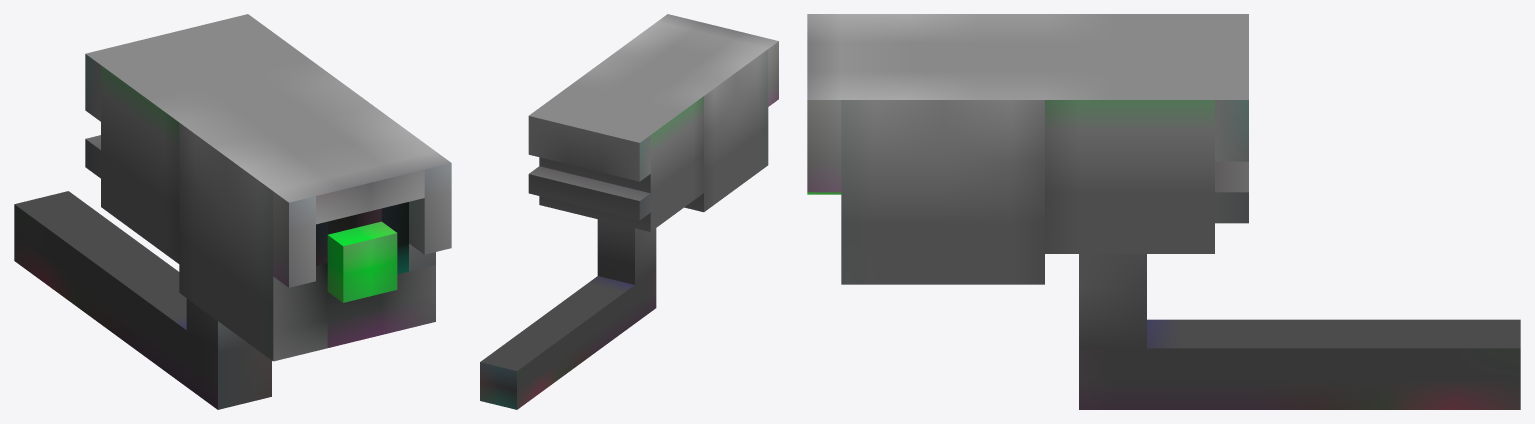
Rendered from Camera_D_00.fbx.
3 views of the same model, side by side, from view 1: azimuth 30°, elevation 25°; view 2: azimuth 150°, elevation 25°; view 3: azimuth 270°, elevation 25° (orthographic). The views are drawn at different scales.
Parts seen in each view (by area): view 1: Camera_D_00; view 2: Camera_D_00; view 3: Camera_D_00.
Boxes of the visible parts, x1=… form: Camera_D_00: x1=14, y1=14, x2=451, y2=409; Camera_D_00: x1=480, y1=14, x2=778, y2=409; Camera_D_00: x1=807, y1=14, x2=1520, y2=409.
Size of the model in its own units: 30 by 55 by 105.
